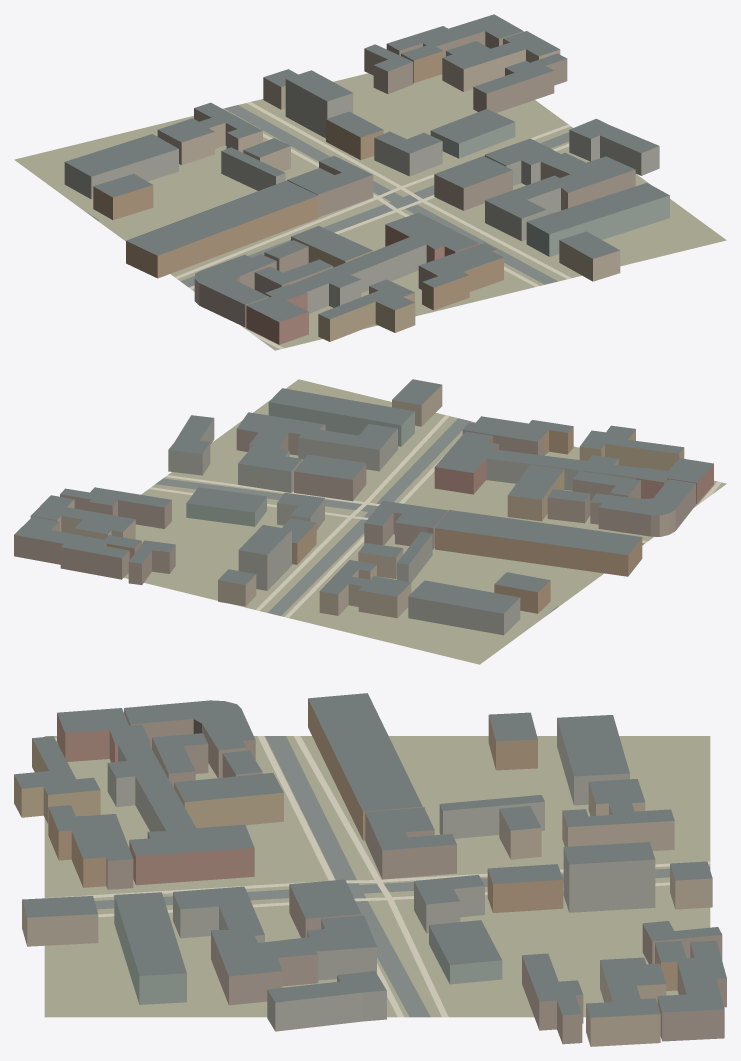
File: sector-2_-3.glb
3 renders of one model, top to bottom at view 1: azimuth 30°, elevation 25°; view 2: azimuth 150°, elevation 25°; view 3: azimuth 270°, elevation 25°, orthographic. The views are drawn at different scales.
Visible parts, largest first — view 1: 2:-3-facade, 2:-3-roof, 2:-3-ground, 2:-3-road, 2:-3-paving; view 2: 2:-3-facade, 2:-3-roof, 2:-3-ground, 2:-3-road, 2:-3-paving; view 3: 2:-3-roof, 2:-3-facade, 2:-3-ground, 2:-3-road, 2:-3-paving.
Boxes of the visible parts, bbox=[...] form: 2:-3-facade: bbox=[64, 31, 669, 344]; 2:-3-roof: bbox=[65, 14, 669, 321]; 2:-3-ground: bbox=[14, 73, 726, 350]; 2:-3-road: bbox=[86, 105, 569, 287]; 2:-3-paving: bbox=[175, 102, 571, 349]; 2:-3-facade: bbox=[14, 385, 713, 635]; 2:-3-roof: bbox=[14, 379, 713, 613]; 2:-3-ground: bbox=[124, 379, 726, 664]; 2:-3-road: bbox=[155, 418, 644, 615]; 2:-3-paving: bbox=[149, 415, 721, 617]; 2:-3-roof: bbox=[14, 693, 726, 1017]; 2:-3-facade: bbox=[14, 699, 726, 1046]; 2:-3-ground: bbox=[44, 736, 710, 1017]; 2:-3-road: bbox=[94, 736, 710, 1017]; 2:-3-paving: bbox=[45, 736, 710, 1017].
Size of the model in its own units: 231 by 16 by 214.
